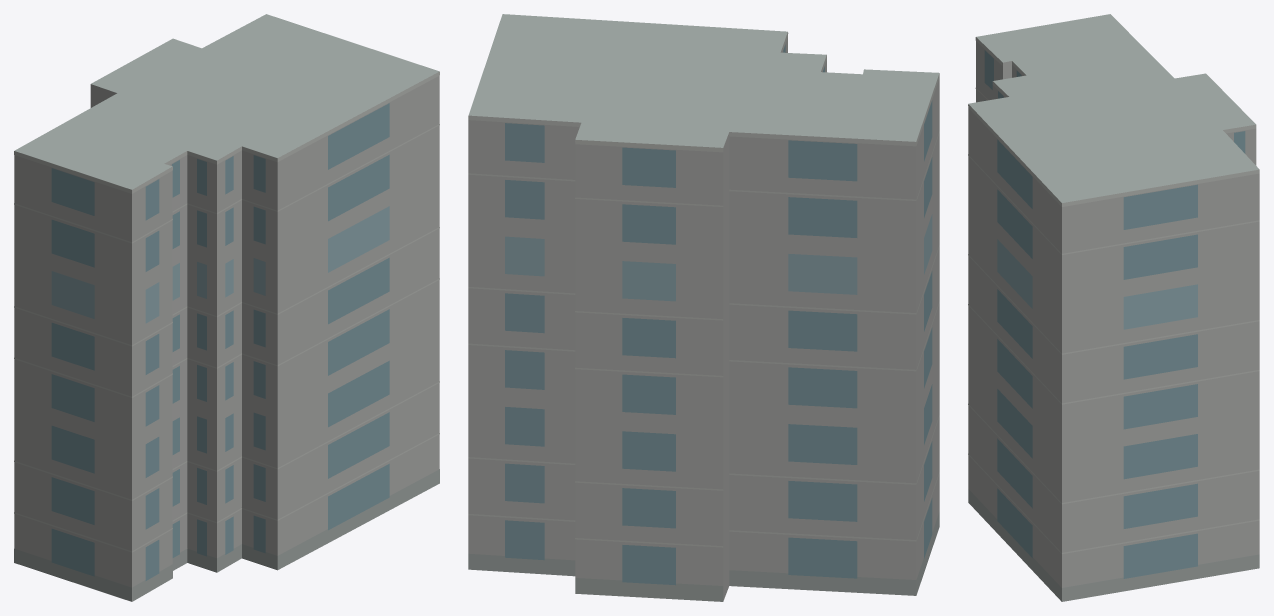
The model's file is survey-upis-32465972.glb.
3 renders of one model, left to right at view 1: azimuth 30°, elevation 25°; view 2: azimuth 150°, elevation 25°; view 3: azimuth 270°, elevation 25°, orthographic. The views are drawn at different scales.
Visible parts, largest first — view 1: survey-upis-32465972.tmp; view 2: survey-upis-32465972.tmp; view 3: survey-upis-32465972.tmp.
Part boxes in pixels (<box>): survey-upis-32465972.tmp: <box>14,14,439,601</box>; survey-upis-32465972.tmp: <box>468,14,939,601</box>; survey-upis-32465972.tmp: <box>968,14,1259,601</box>.
Bounding box in the file's own units: 25.26 × 24.8 × 16.45.
